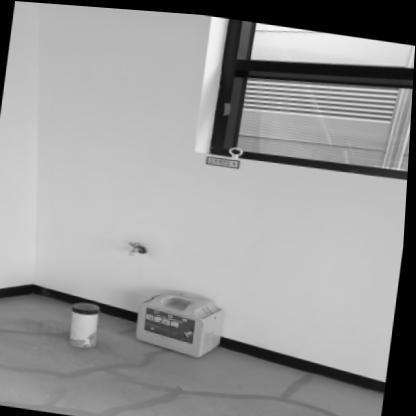DDL: (137, 283, 229, 356)
